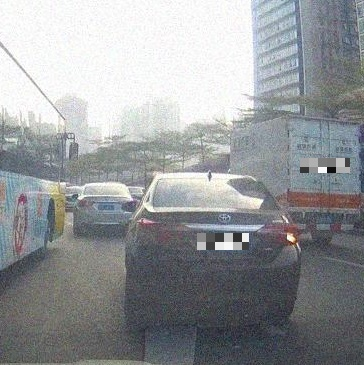L_light: (136, 219, 189, 245)
R_light: (254, 222, 299, 245)
T_light: (208, 202, 235, 208)
day-right: (133, 171, 301, 331)
plate_1: (197, 233, 249, 250)
plate_2: (300, 158, 350, 173)
